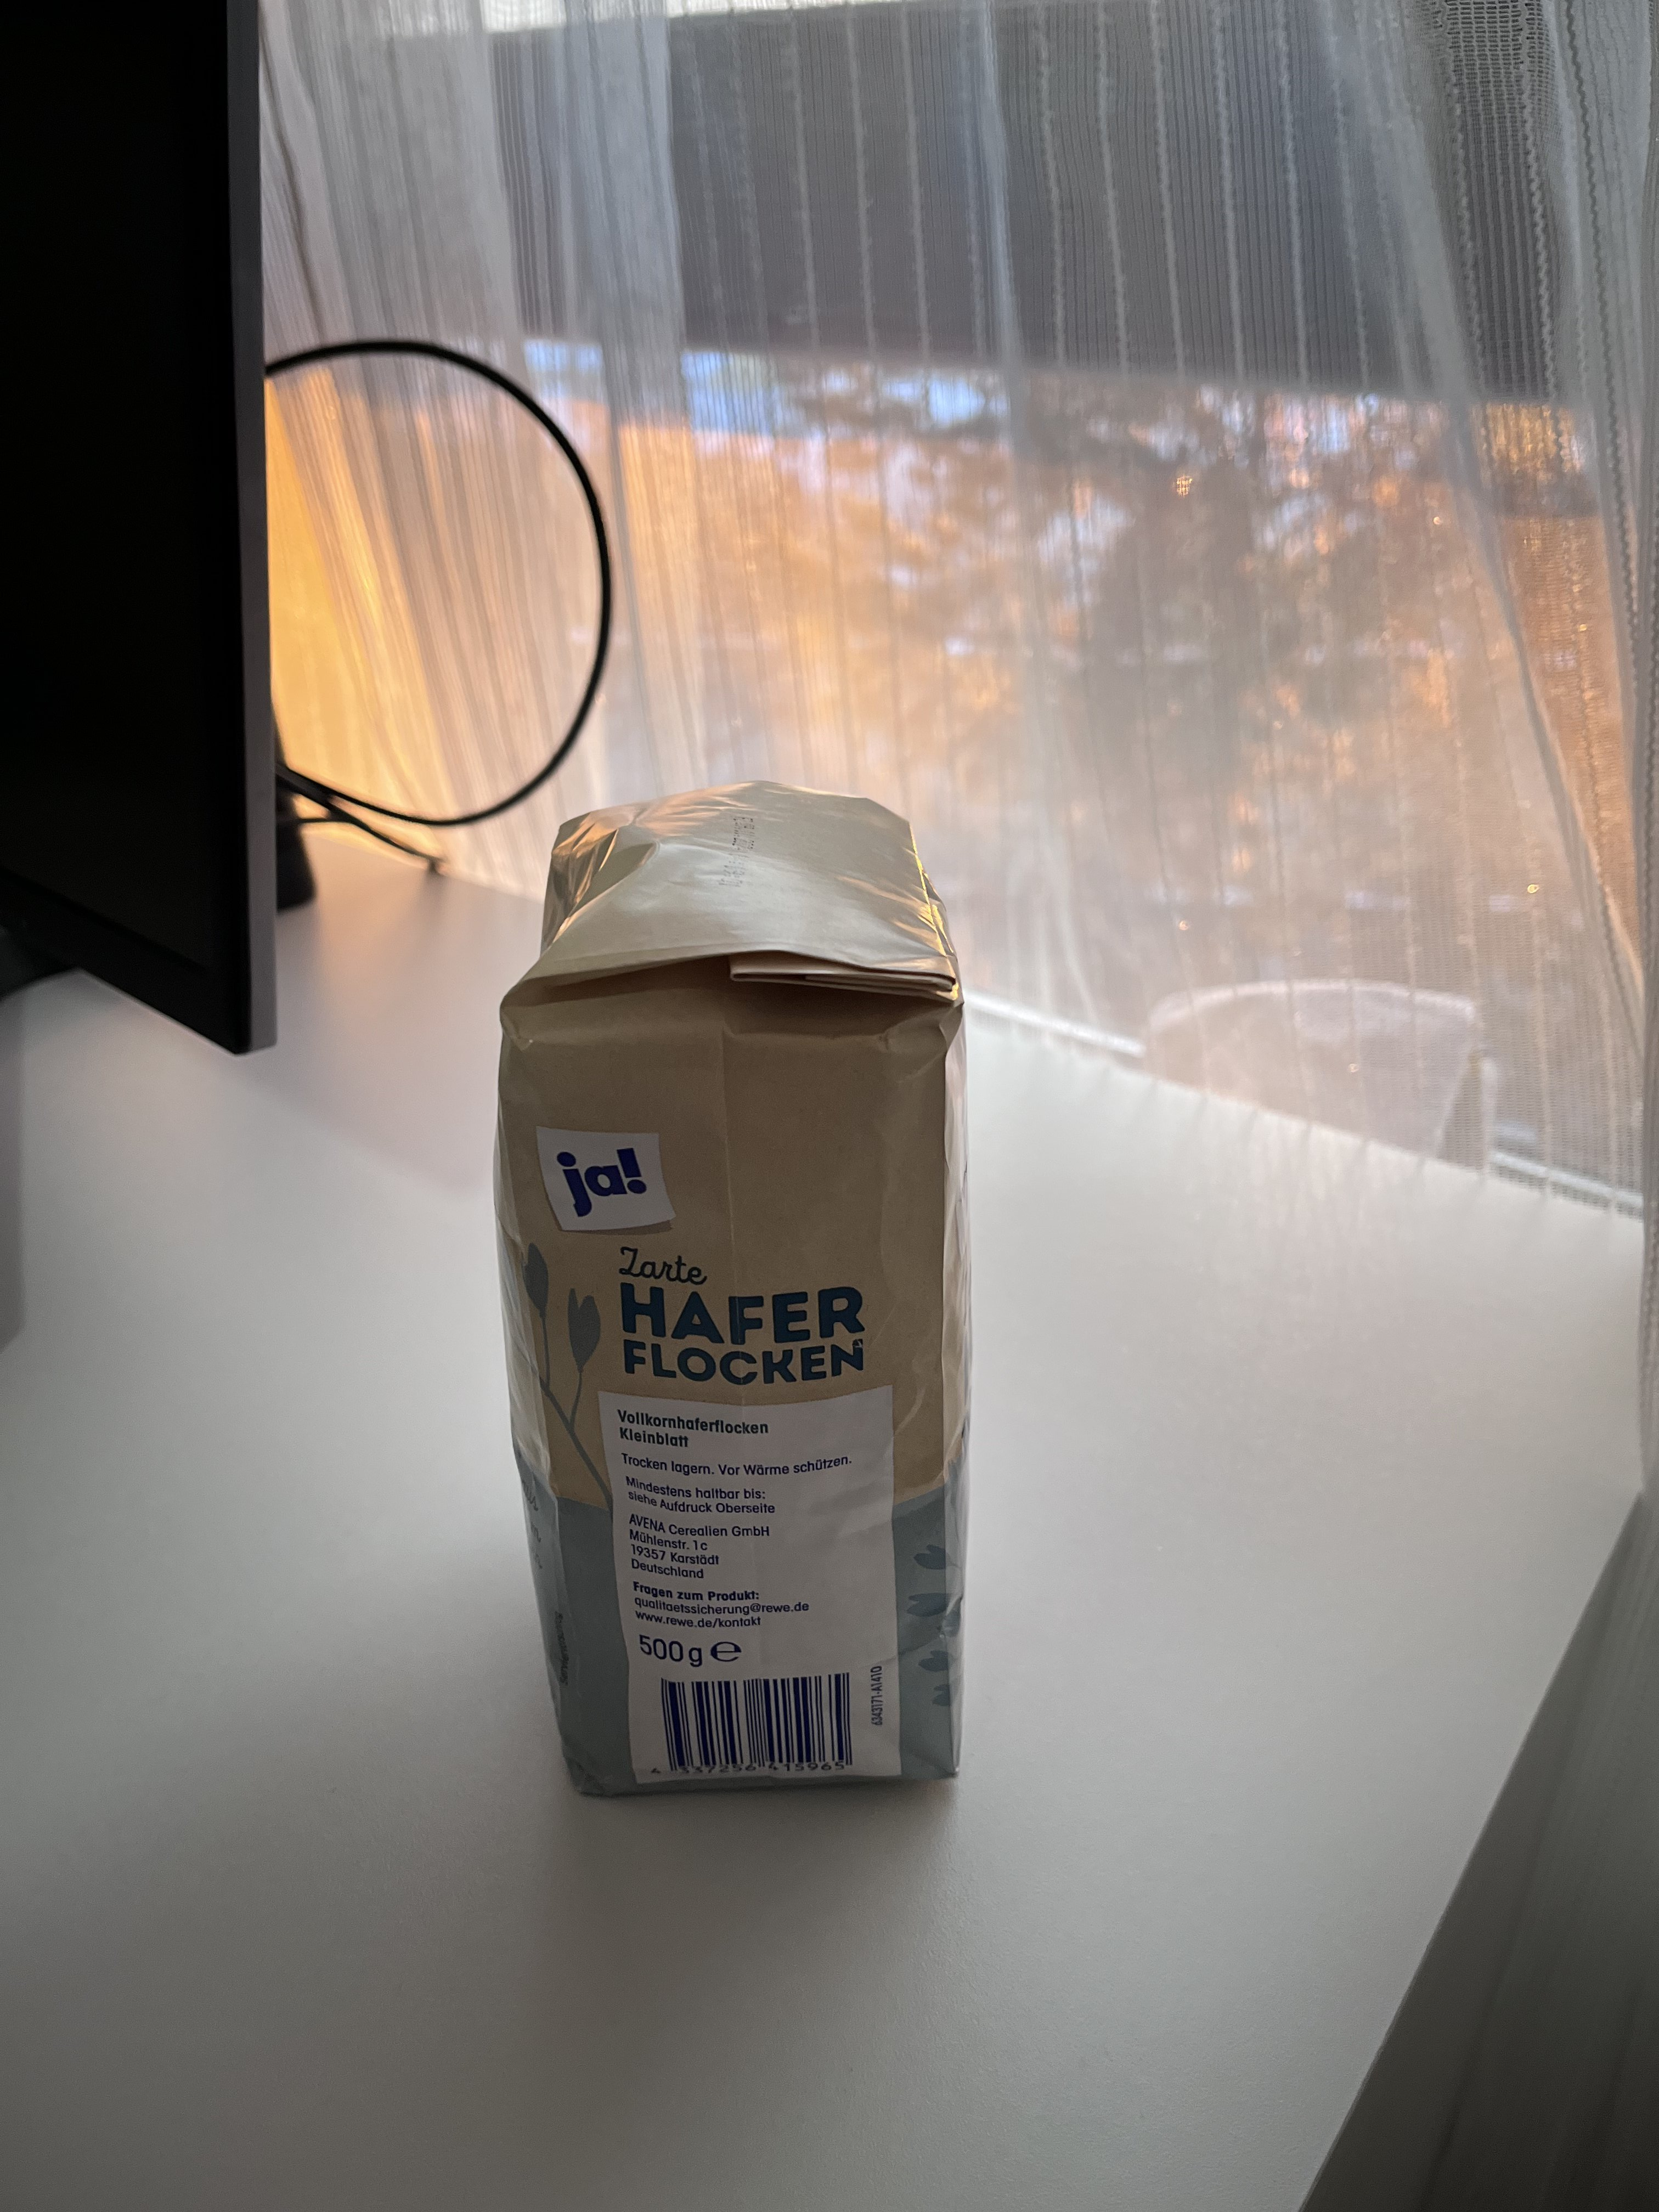haferflocken_ja: (497, 775, 972, 1799)
